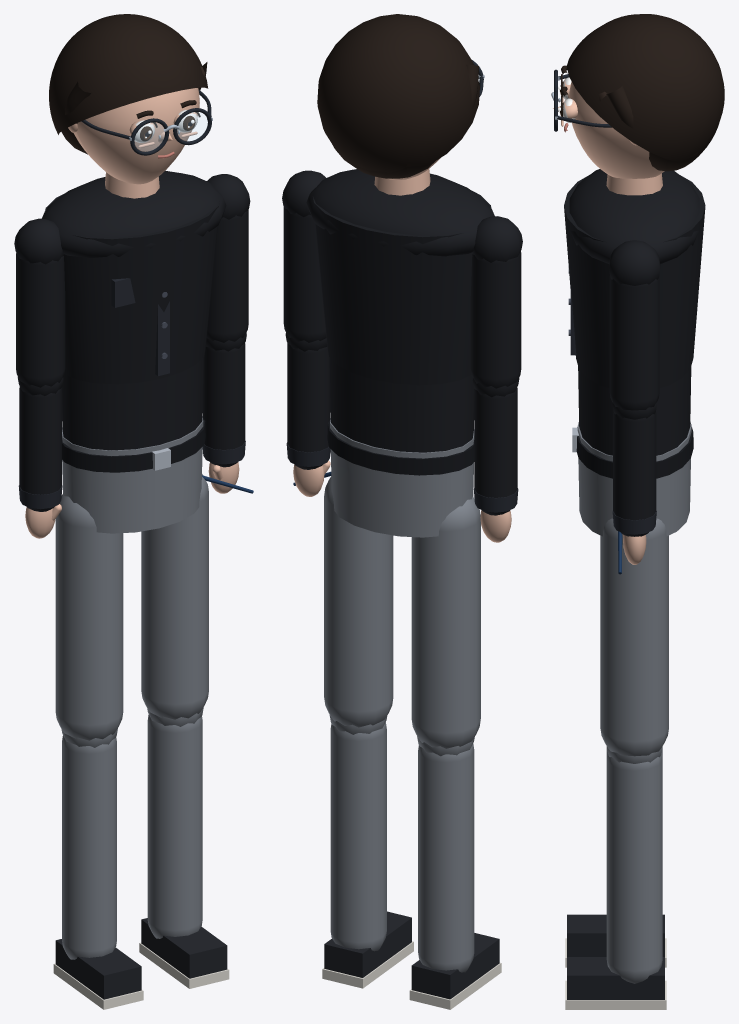
The model's file is male_character.glb.
The picture shows the model from 3 angles, left to right: view 1: azimuth 30°, elevation 25°; view 2: azimuth 150°, elevation 25°; view 3: azimuth 270°, elevation 25°; orthographic projection. The views are drawn at different scales.
Parts seen in each view (by area): view 1: Chest, UpLegL, UpLegR, LegR, HairGroup, LegL, Hips, Spine, ArmL, HeadMesh, ArmR, ForeArmL (+8 smaller); view 2: Chest, HairGroup, UpLegL, UpLegR, LegL, LegR, Hips, Spine, ArmL, ArmR, ForeArmL, ForeArmR (+5 smaller); view 3: Chest, HairGroup, UpLegR, LegR, ArmR, Hips, ForeArmR, Spine, FootR, HeadMesh, FootL, Neck (+1 smaller).
Part boxes in pixels (x1=…): Chest: x1=42, y1=171, x2=226, y2=384; UpLegL: x1=55, y1=493, x2=123, y2=740; UpLegR: x1=141, y1=474, x2=208, y2=719; LegR: x1=147, y1=707, x2=203, y2=938; HairGroup: x1=49, y1=14, x2=208, y2=154; LegL: x1=61, y1=728, x2=117, y2=959; Hips: x1=62, y1=416, x2=205, y2=533; Spine: x1=61, y1=357, x2=203, y2=450; ArmL: x1=14, y1=218, x2=65, y2=387; HeadMesh: x1=73, y1=88, x2=199, y2=184; ArmR: x1=206, y1=174, x2=250, y2=342; ForeArmL: x1=17, y1=377, x2=63, y2=511; Chest: x1=306, y1=169, x2=494, y2=385; HairGroup: x1=317, y1=14, x2=479, y2=178; UpLegL: x1=411, y1=496, x2=480, y2=748; UpLegR: x1=324, y1=476, x2=393, y2=727; LegL: x1=417, y1=736, x2=474, y2=972; LegR: x1=329, y1=715, x2=387, y2=951; Hips: x1=327, y1=418, x2=474, y2=537; Spine: x1=329, y1=358, x2=474, y2=452; ArmL: x1=470, y1=216, x2=522, y2=388; ArmR: x1=282, y1=170, x2=326, y2=342; ForeArmL: x1=472, y1=378, x2=519, y2=515; ForeArmR: x1=285, y1=332, x2=330, y2=469; Chest: x1=564, y1=169, x2=705, y2=387; HairGroup: x1=566, y1=14, x2=724, y2=171; UpLegR: x1=600, y1=518, x2=668, y2=756; LegR: x1=606, y1=747, x2=662, y2=983; ArmR: x1=609, y1=240, x2=660, y2=410; Hips: x1=572, y1=422, x2=693, y2=536; ForeArmR: x1=612, y1=402, x2=656, y2=536; Spine: x1=578, y1=366, x2=691, y2=455; FootR: x1=565, y1=957, x2=666, y2=1009; HeadMesh: x1=569, y1=81, x2=664, y2=178; FootL: x1=565, y1=914, x2=666, y2=967; Neck: x1=606, y1=173, x2=662, y2=195.
Bounding box in the file's own units: 0.46 × 1.81 × 0.2975.
